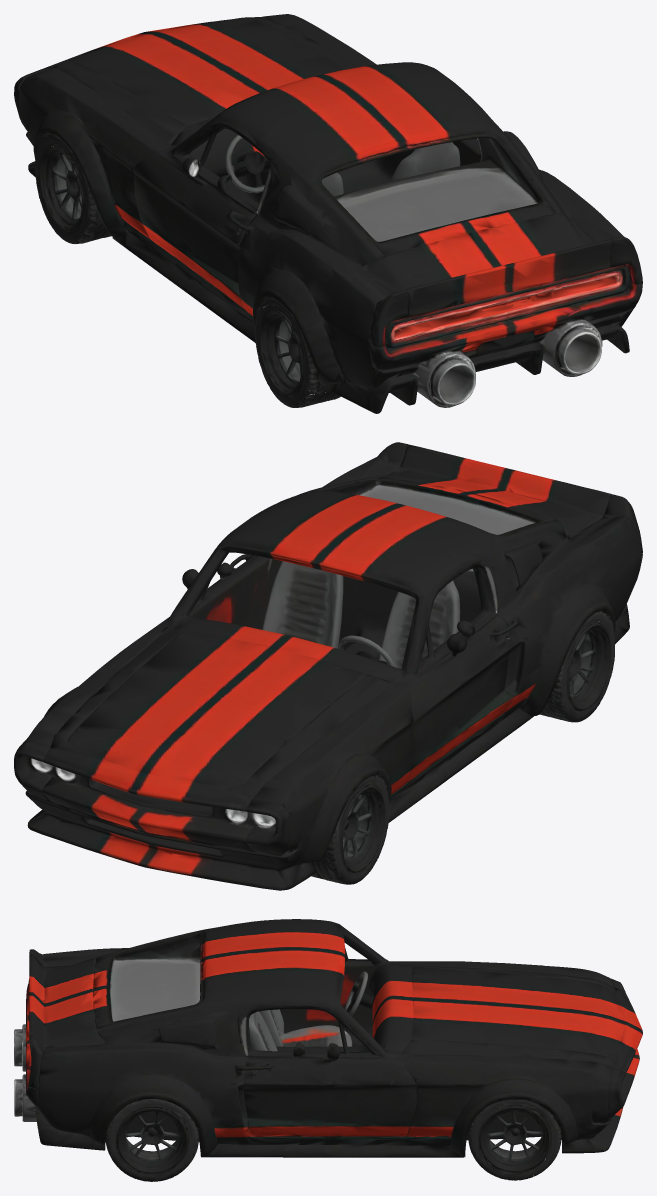
Rendered from qmaro.glb.
The picture shows the model from 3 angles, top to bottom: view 1: azimuth 30°, elevation 25°; view 2: azimuth 150°, elevation 25°; view 3: azimuth 270°, elevation 25°; orthographic projection. The views are drawn at different scales.
Parts seen in each view (by area): view 1: tripo_node_d75bbbff-4d29-491b-83a5-ca16c147af85; view 2: tripo_node_d75bbbff-4d29-491b-83a5-ca16c147af85; view 3: tripo_node_d75bbbff-4d29-491b-83a5-ca16c147af85.
Boxes of the visible parts, x1,y1,x2,y2 form: tripo_node_d75bbbff-4d29-491b-83a5-ca16c147af85: [14, 14, 642, 413]; tripo_node_d75bbbff-4d29-491b-83a5-ca16c147af85: [14, 442, 642, 890]; tripo_node_d75bbbff-4d29-491b-83a5-ca16c147af85: [14, 919, 642, 1181].
Size of the model in its own units: 0.4614 by 0.2989 by 0.9802.
5 materials, 5 textured.
